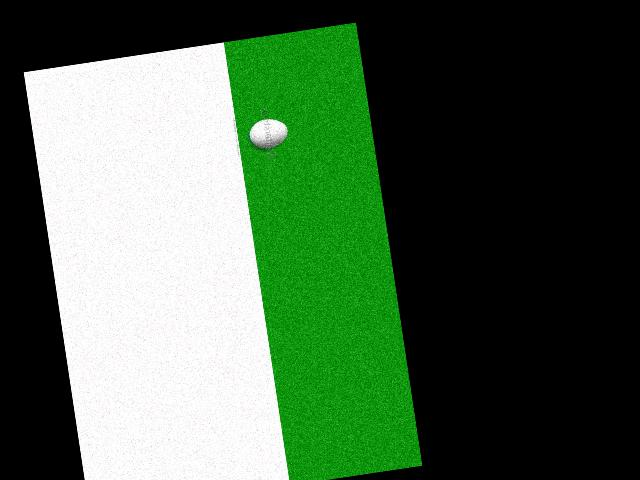egg: (247, 116, 289, 150)
